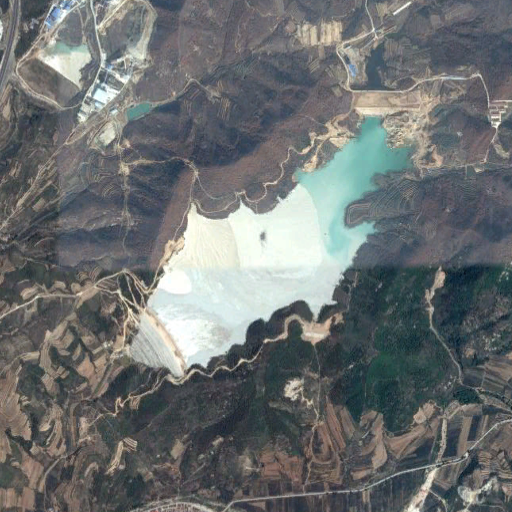tp: (121, 112, 422, 378)
